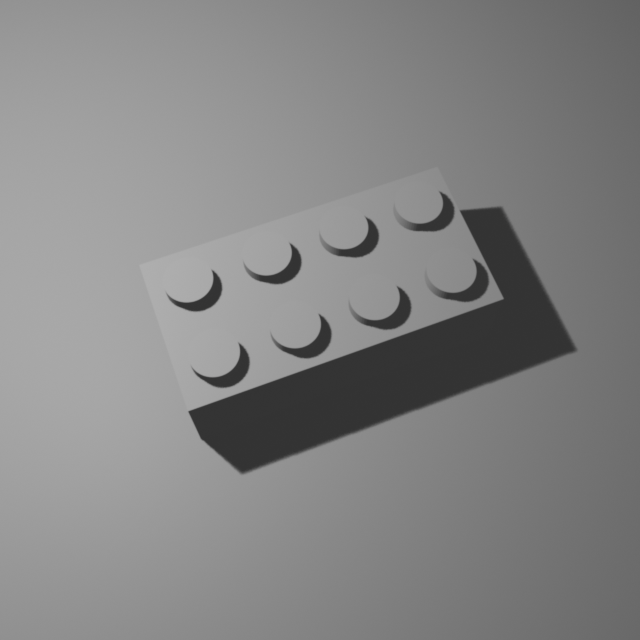lego_2x4: (136, 158, 507, 439)
